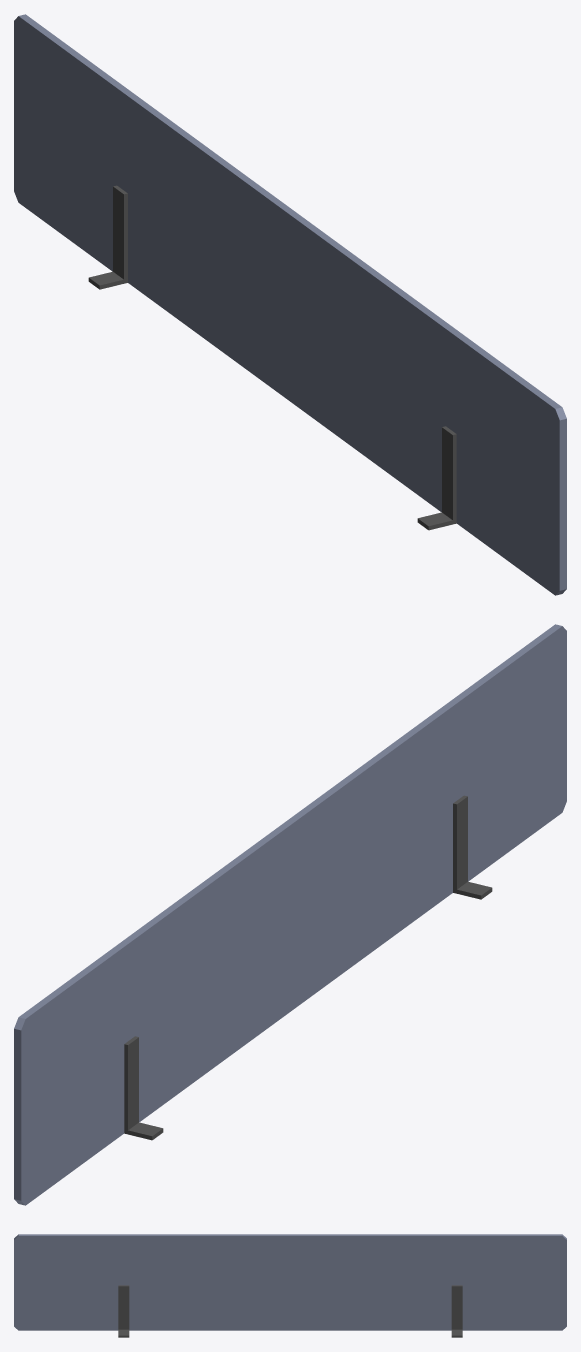
File: Divider.fbx
The picture shows the model from 3 angles, top to bottom: view 1: azimuth 30°, elevation 25°; view 2: azimuth 150°, elevation 25°; view 3: azimuth 270°, elevation 25°; orthographic projection. The views are drawn at different scales.
Parts seen in each view (by area): view 1: Divider; view 2: Divider; view 3: Divider.
Part boxes in pixels (<box>): Divider: <box>14,14,566,595</box>; Divider: <box>14,624,566,1205</box>; Divider: <box>14,1234,566,1337</box>.
Bounding box in the file's own units: 31.45 × 88.19 × 467.
